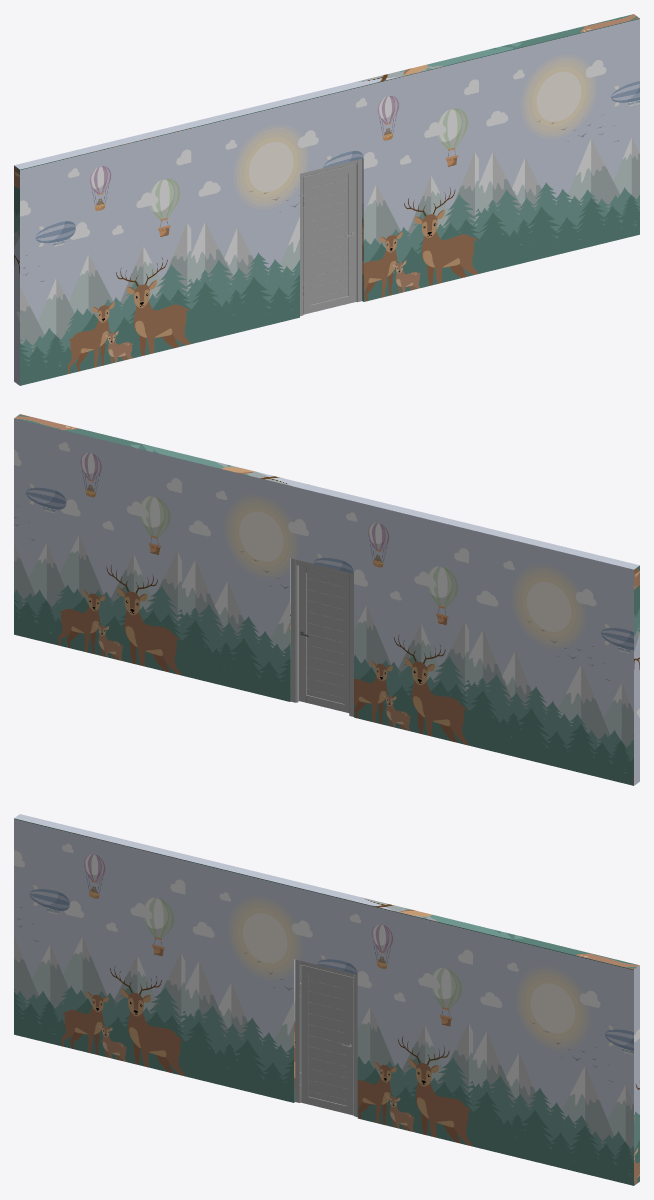
File: WallWithDoorV2.fbx
3 renders of one model, top to bottom at view 1: azimuth 30°, elevation 25°; view 2: azimuth 150°, elevation 25°; view 3: azimuth 330°, elevation 25°, orthographic.
Visible parts, largest first — view 1: Plane, PDG 2199.001; view 2: Plane, PDG 2199.001; view 3: Plane, PDG 2199.001.
Boxes of the visible parts, x1=… form: Plane: x1=14, y1=14, x2=639, y2=385; PDG 2199.001: x1=300, y1=158, x2=362, y2=316; Plane: x1=14, y1=414, x2=639, y2=785; PDG 2199.001: x1=291, y1=558, x2=353, y2=716; Plane: x1=14, y1=814, x2=639, y2=1185; PDG 2199.001: x1=295, y1=959, x2=357, y2=1116.
Size of the model in its own units: 9 by 0.15 by 3.
